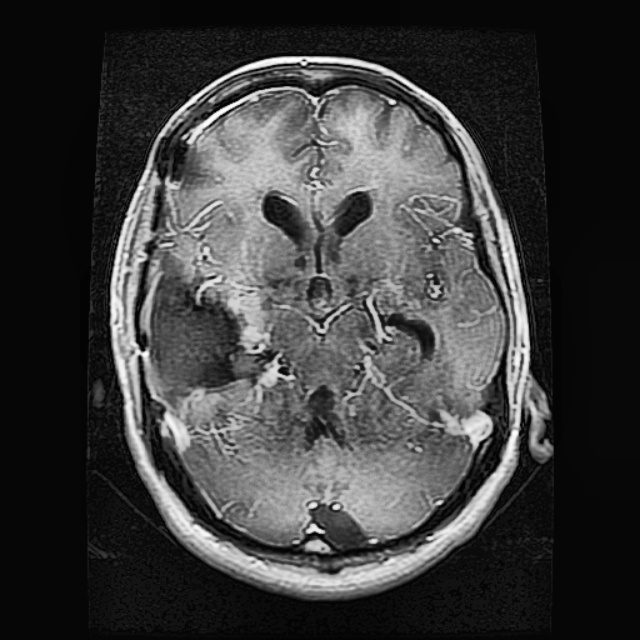Glioma: (153, 253, 254, 390)
